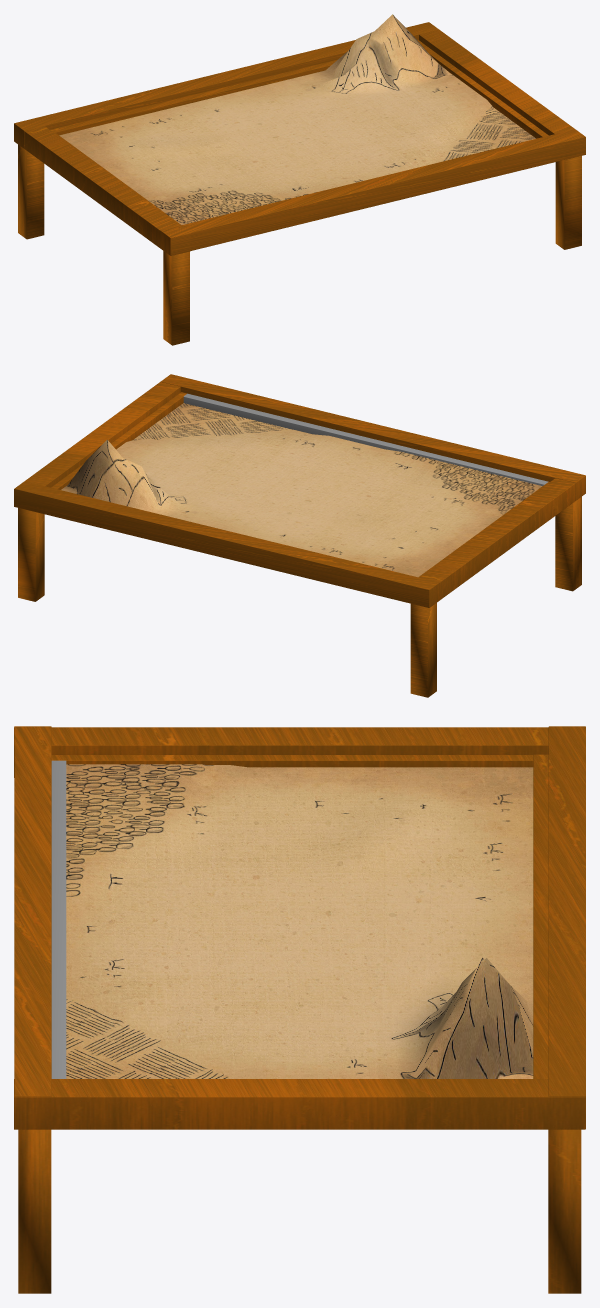
File: map table.FBX
3 views of the same model, one above another, from view 1: azimuth 30°, elevation 25°; view 2: azimuth 150°, elevation 25°; view 3: azimuth 270°, elevation 25° (orthographic). The views are drawn at different scales.
Visible parts, largest first — view 1: map, Null_rand_2_Cube_11, Null_rand_2_Cube_21, Null_rand_2_Cube1, Null_rand_2_Cube_31, Null_poten_Cube, Null_poten_Cube_1, Null_rand_Cube2, Null_poten_Cube_3, Null_rand_Cube_32; view 2: map, Null_rand_2_Cube1, Null_rand_2_Cube_11, Null_rand_2_Cube_21, Null_rand_2_Cube_31, Null_rand_Cube_12, Null_poten_Cube_3, Null_poten_Cube_2, Null_poten_Cube, Null_rand_Cube_32; view 3: map, Null_rand_2_Cube_31, Null_rand_2_Cube1, Null_rand_2_Cube_11, Null_rand_2_Cube_21, Null_rand_Cube_22, Null_poten_Cube_2, Null_poten_Cube_1, Null_rand_Cube2, Null_rand_Cube_12.
Boxes of the visible parts, <box> form: map: <box>59,14,535,224</box>; Null_rand_2_Cube_11: <box>160,129,585,255</box>; Null_rand_2_Cube_21: <box>24,126,190,255</box>; Null_rand_2_Cube1: <box>14,22,438,148</box>; Null_rand_2_Cube_31: <box>419,29,585,159</box>; Null_poten_Cube: <box>163,251,189,345</box>; Null_poten_Cube_1: <box>555,156,581,249</box>; Null_rand_Cube2: <box>50,40,421,135</box>; Null_poten_Cube_3: <box>18,144,44,239</box>; Null_rand_Cube_32: <box>420,43,548,138</box>; map: <box>61,403,542,577</box>; Null_rand_2_Cube1: <box>14,481,439,607</box>; Null_rand_2_Cube_11: <box>161,374,585,500</box>; Null_rand_2_Cube_21: <box>420,478,575,600</box>; Null_rand_2_Cube_31: <box>14,381,180,506</box>; Null_rand_Cube_12: <box>183,393,548,485</box>; Null_poten_Cube_3: <box>410,603,436,697</box>; Null_poten_Cube_2: <box>18,508,44,601</box>; Null_poten_Cube: <box>555,496,581,591</box>; Null_rand_Cube_32: <box>51,392,186,489</box>; map: <box>66,764,533,1078</box>; Null_rand_2_Cube_31: <box>14,1079,585,1129</box>; Null_rand_2_Cube1: <box>548,726,585,1128</box>; Null_rand_2_Cube_11: <box>14,726,51,1096</box>; Null_rand_2_Cube_21: <box>14,727,548,777</box>; Null_rand_Cube_22: <box>51,755,533,767</box>; Null_poten_Cube_2: <box>548,1129,581,1293</box>; Null_poten_Cube_1: <box>18,1129,51,1293</box>; Null_rand_Cube2: <box>533,754,548,1078</box>; Null_rand_Cube_12: <box>51,760,66,1078</box>.
Bounding box in the file's own units: 11378 × 4021 × 7431.
